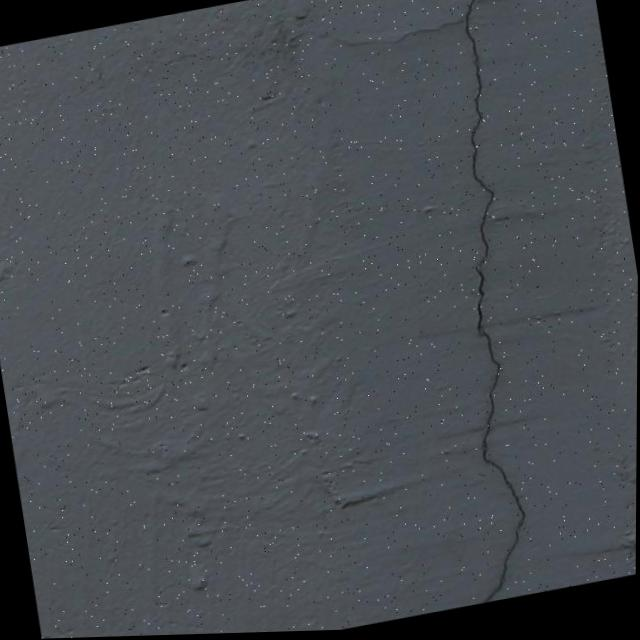Crack: (305, 0, 601, 622)
